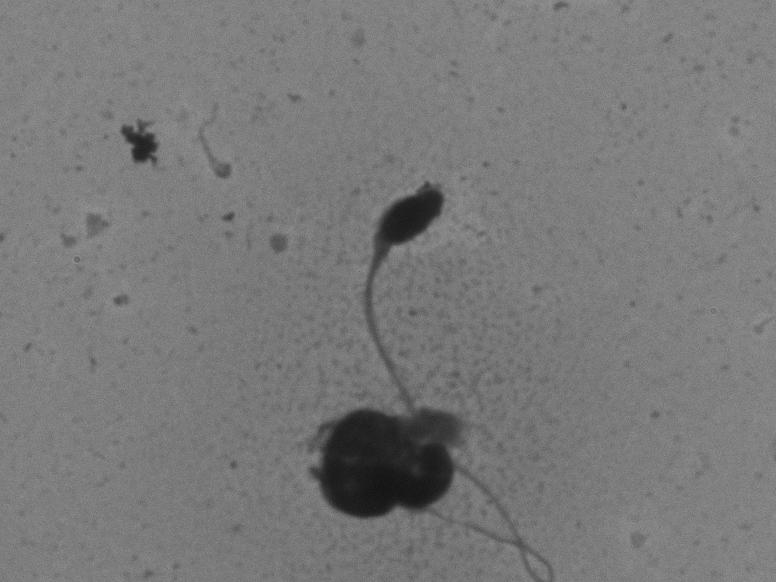Abnormal: (356, 169, 568, 575)
